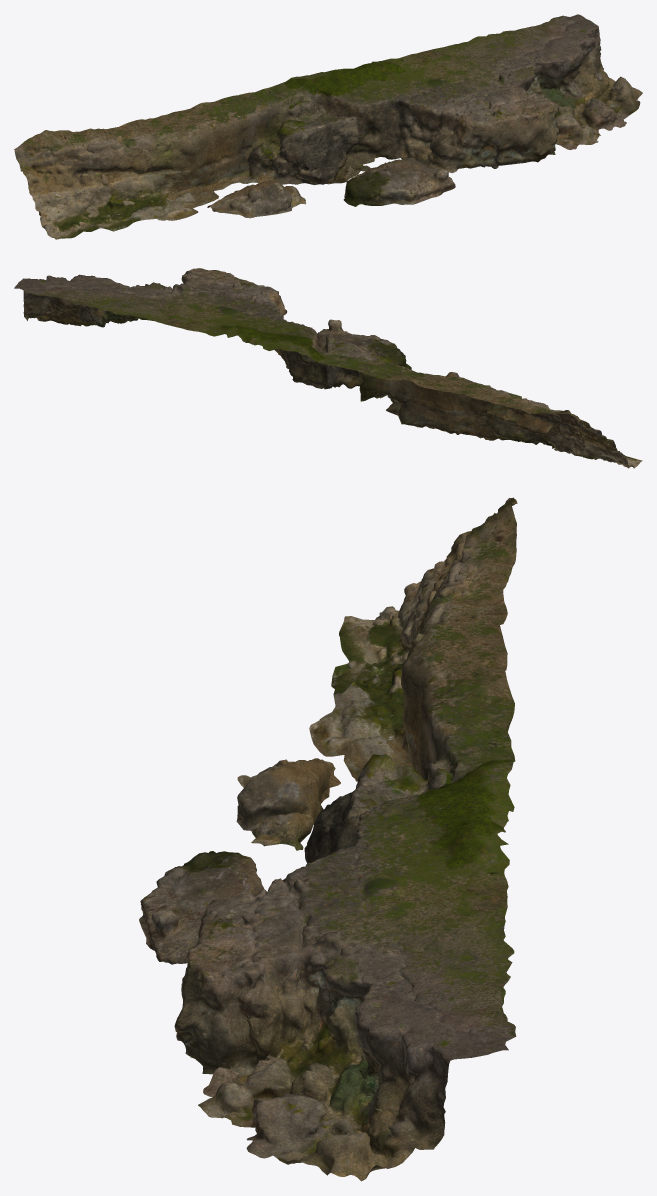
File: Cliff_01.glb
The picture shows the model from 3 angles, top to bottom: view 1: azimuth 30°, elevation 25°; view 2: azimuth 150°, elevation 25°; view 3: azimuth 270°, elevation 25°; orthographic projection. The views are drawn at different scales.
Parts seen in each view (by area): view 1: coastal_cliff_04_LOD3; view 2: coastal_cliff_04_LOD3; view 3: coastal_cliff_04_LOD3.
Part boxes in pixels (x1,y1,x2,y2): coastal_cliff_04_LOD3: (14,14,642,239); coastal_cliff_04_LOD3: (14,268,642,468); coastal_cliff_04_LOD3: (139,497,517,1181).
Bounding box in the file's own units: 86.76 × 10.99 × 24.24.
Materials: 1 (1 with a texture image).
